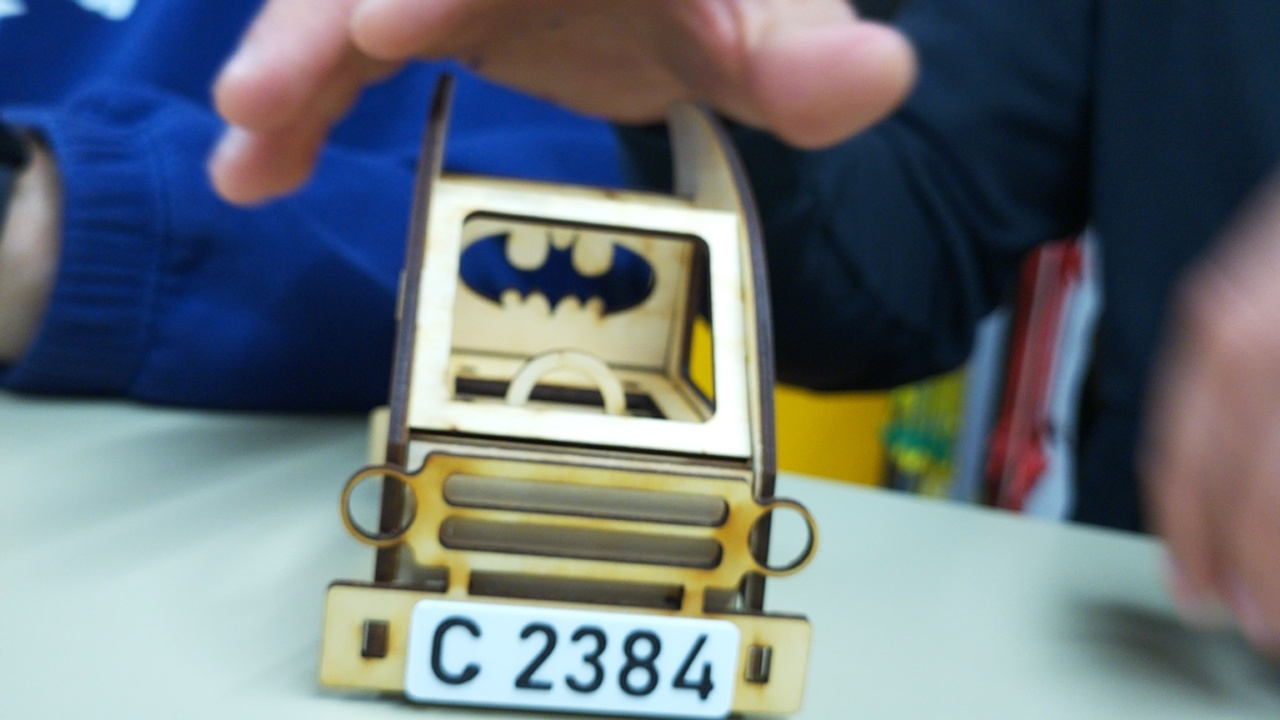license_plate: (403, 597, 742, 720)
